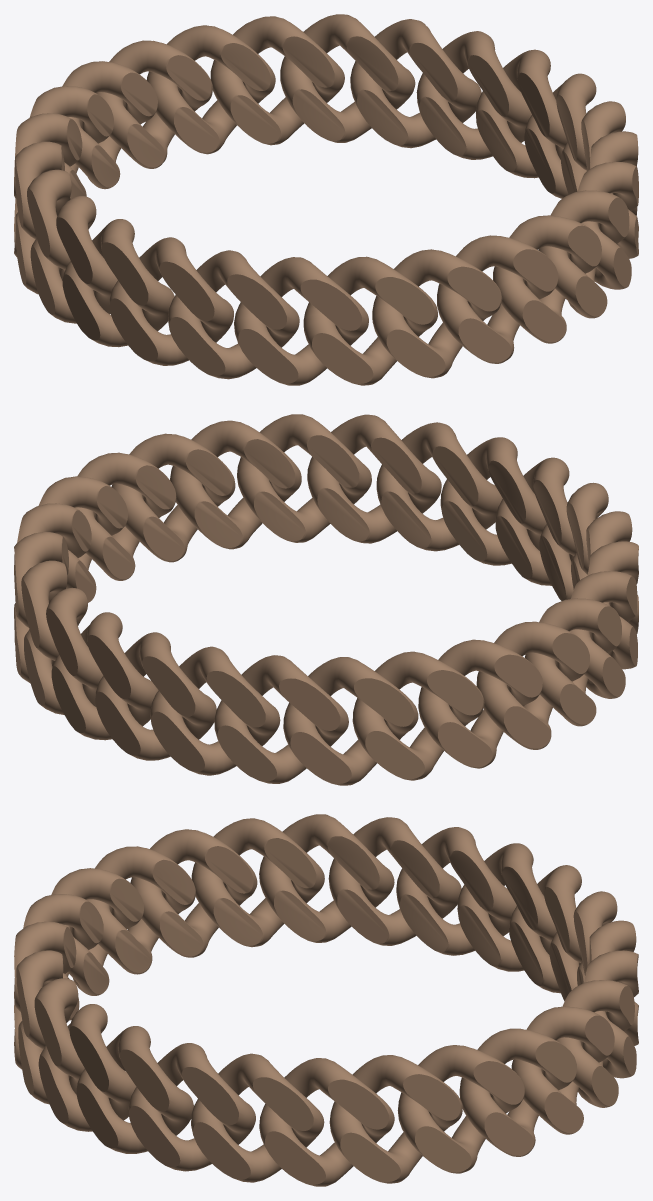
The model's file is Bracelet_LOD0.fbx.
The picture shows the model from 3 angles, top to bottom: view 1: azimuth 30°, elevation 25°; view 2: azimuth 150°, elevation 25°; view 3: azimuth 270°, elevation 25°; orthographic projection.
Parts seen in each view (by area): view 1: Bracelet_LOD0; view 2: Bracelet_LOD0; view 3: Bracelet_LOD0.
Part boxes in pixels (x1,y1,x2,y2): Bracelet_LOD0: (14,14,638,385); Bracelet_LOD0: (14,414,638,785); Bracelet_LOD0: (14,814,638,1186).
Size of the model in its own units: 12.04 by 2.6 by 12.04.
